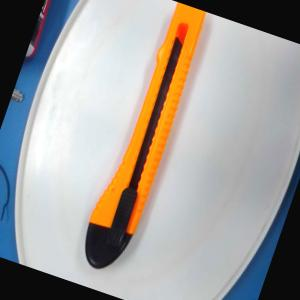estilete: (73, 0, 210, 277)
